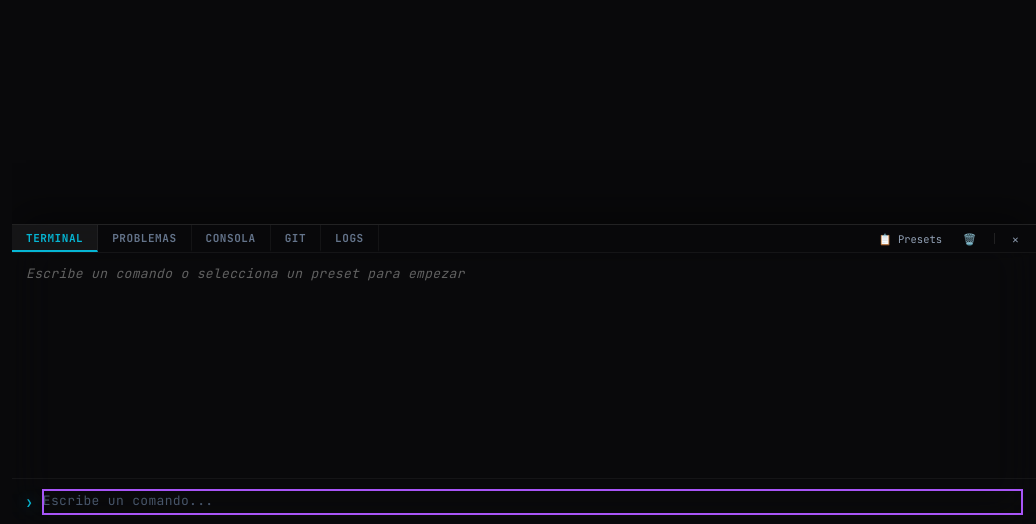
Test: TerminalPanel › should show preset dropdown when clicking Presets
Step 1. Click the button "📋 Presets" → (910, 239), box top-left (872, 230), bottom-right (949, 247)
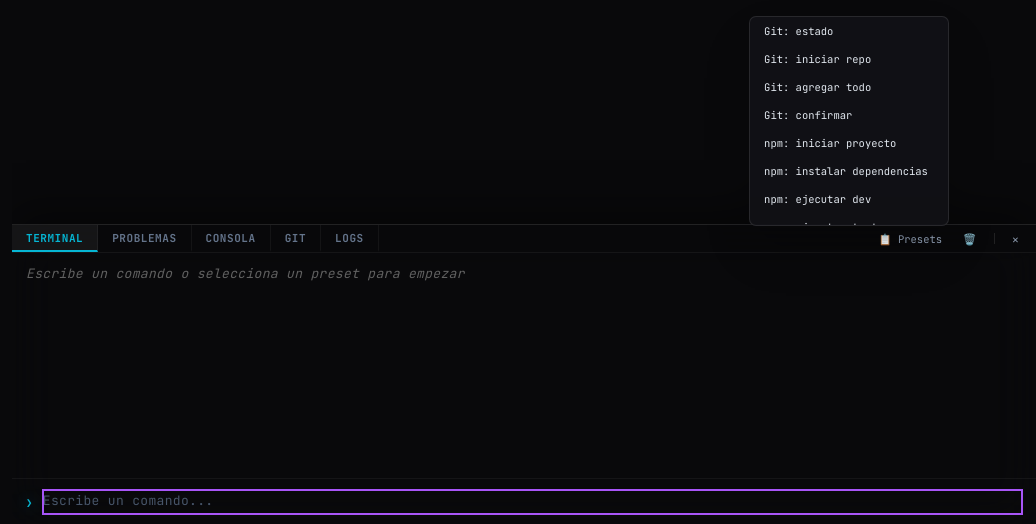
expect the text "Git: estado" is shown: met, box top-left (764, 24), bottom-right (833, 38)
expect the text "npm: instalar dependencias" is shown: met, box top-left (764, 164), bottom-right (928, 178)
